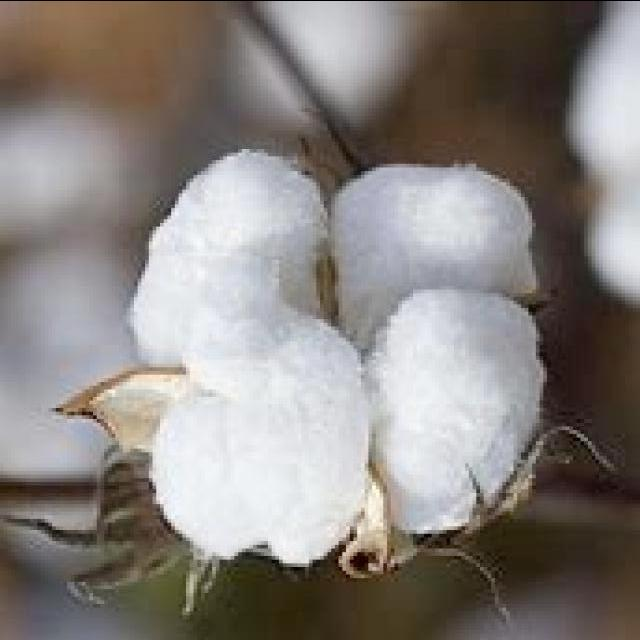Matured Cotton Boll: (111, 143, 548, 572)
